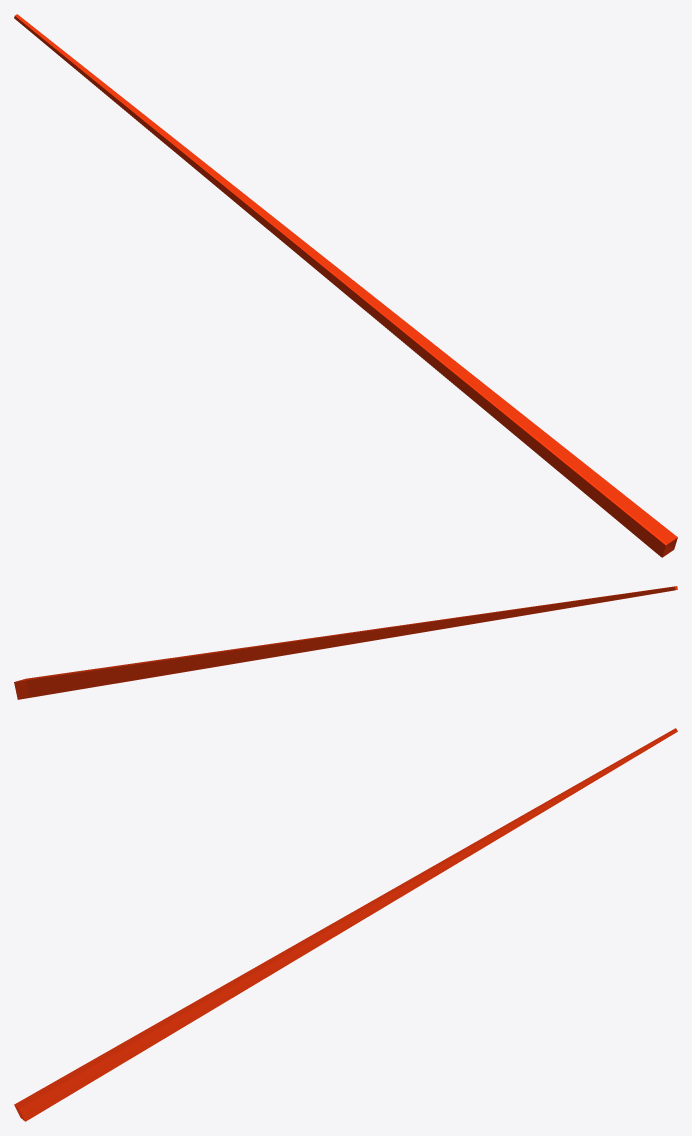
Rendered from Event_421556567_EBrechit_7.fbx.
The picture shows the model from 3 angles, top to bottom: view 1: azimuth 30°, elevation 25°; view 2: azimuth 210°, elevation 25°; view 3: azimuth 270°, elevation 25°; orthographic projection. The views are drawn at different scales.
Visible parts, largest first — view 1: Model; view 2: Model; view 3: Model.
Boxes of the visible parts, x1,y1,x2,y2 form: Model: (14, 14, 677, 557); Model: (14, 586, 677, 699); Model: (14, 728, 677, 1121).
Bounding box in the file's own units: 4.86 × 5.43 × 11.69.
